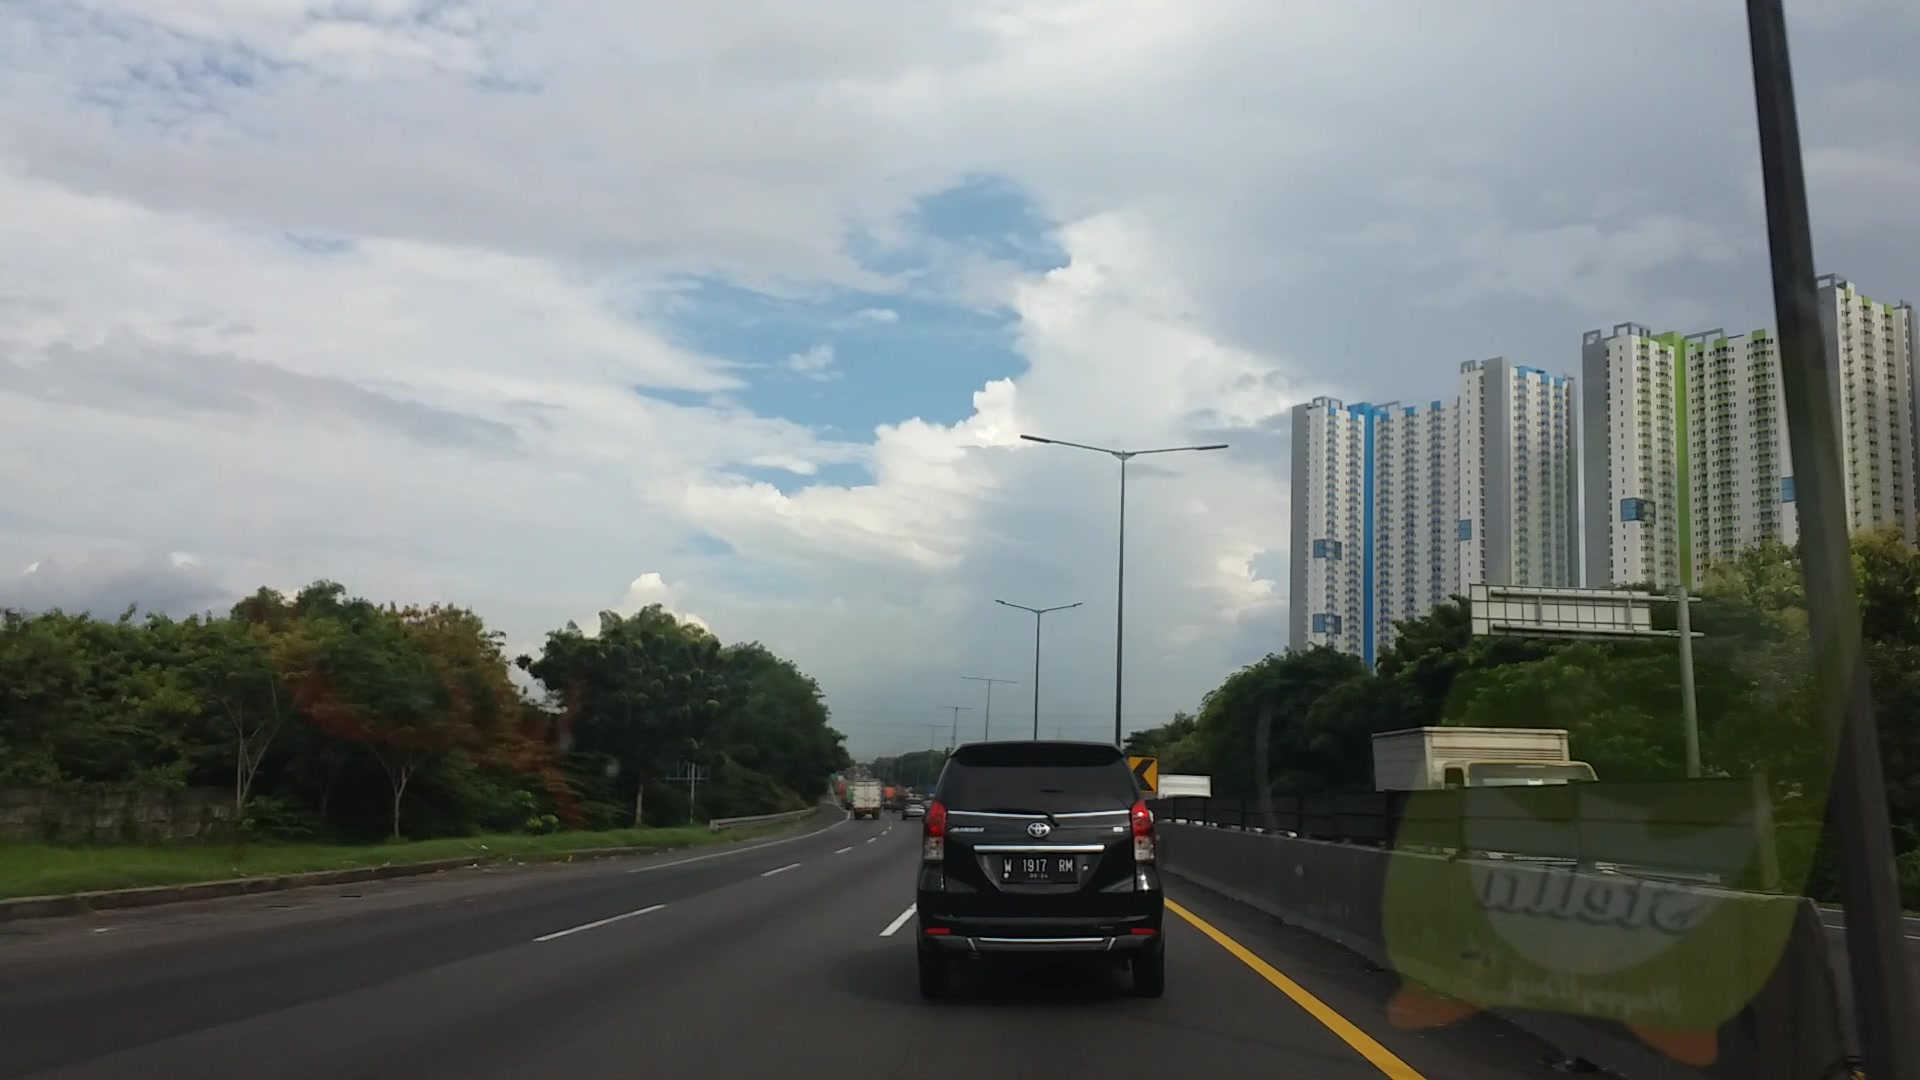plate_positive: (1000, 856, 1075, 880)
